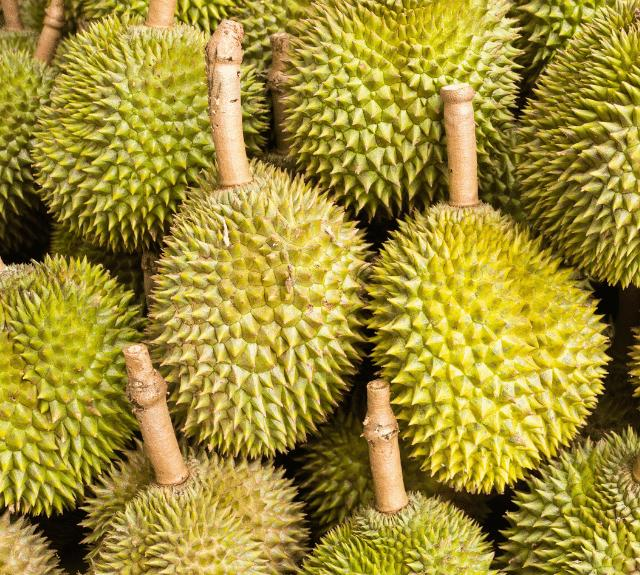sau_rieng: (368, 202, 612, 487), (146, 163, 365, 457)
